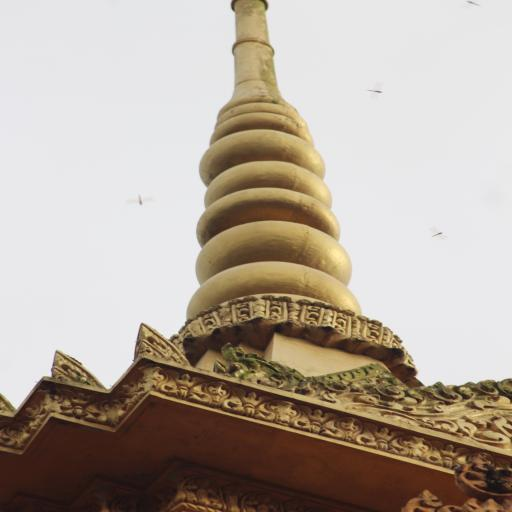la: (311, 371, 512, 445), (227, 347, 311, 390), (261, 392, 308, 434), (322, 408, 371, 448), (191, 375, 238, 415), (392, 431, 435, 466), (58, 387, 100, 420), (436, 437, 461, 471), (236, 387, 260, 421), (134, 368, 161, 396), (31, 399, 52, 433), (0, 426, 29, 450), (373, 418, 392, 454), (306, 401, 324, 435), (174, 376, 197, 402)
